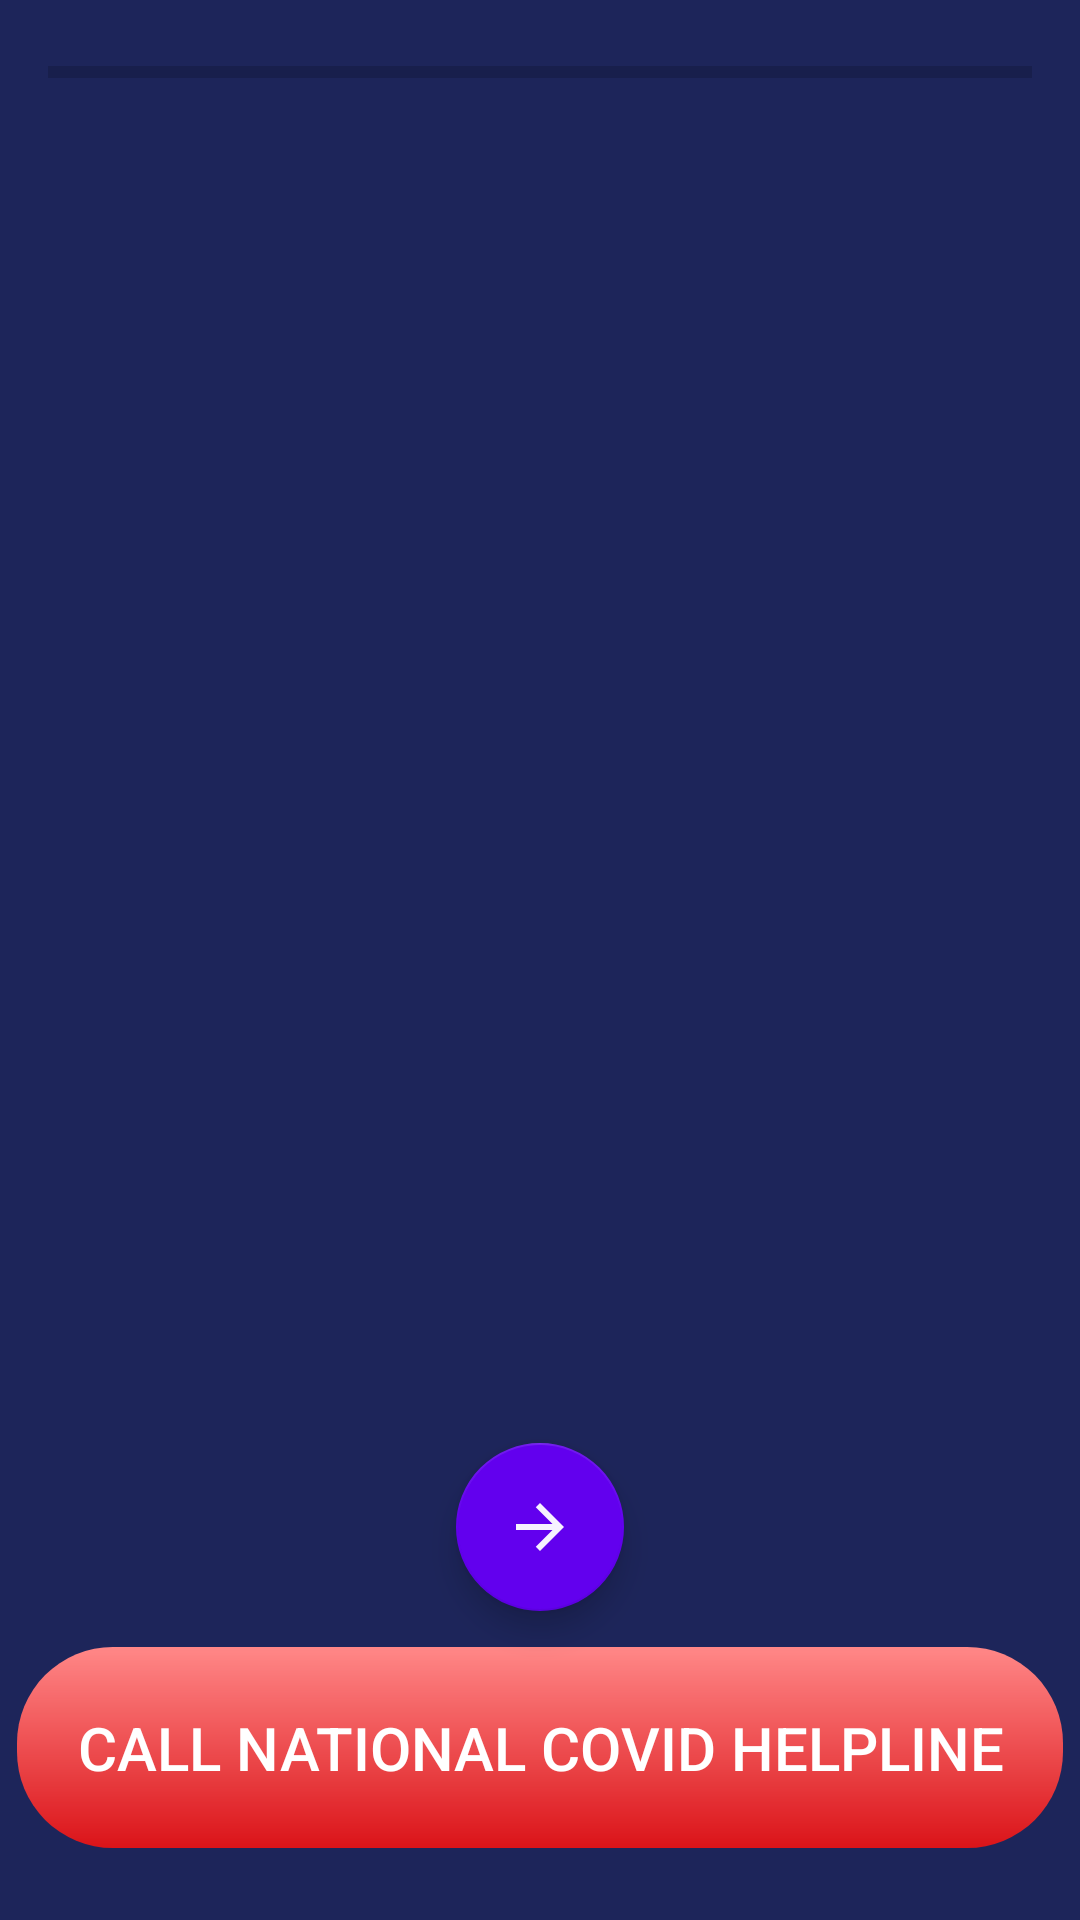

Icons on this 1080 x 1920 Android screen, each with its box as (x1, y1, x2, y2):
arrow forward: (456, 1443, 624, 1611)
